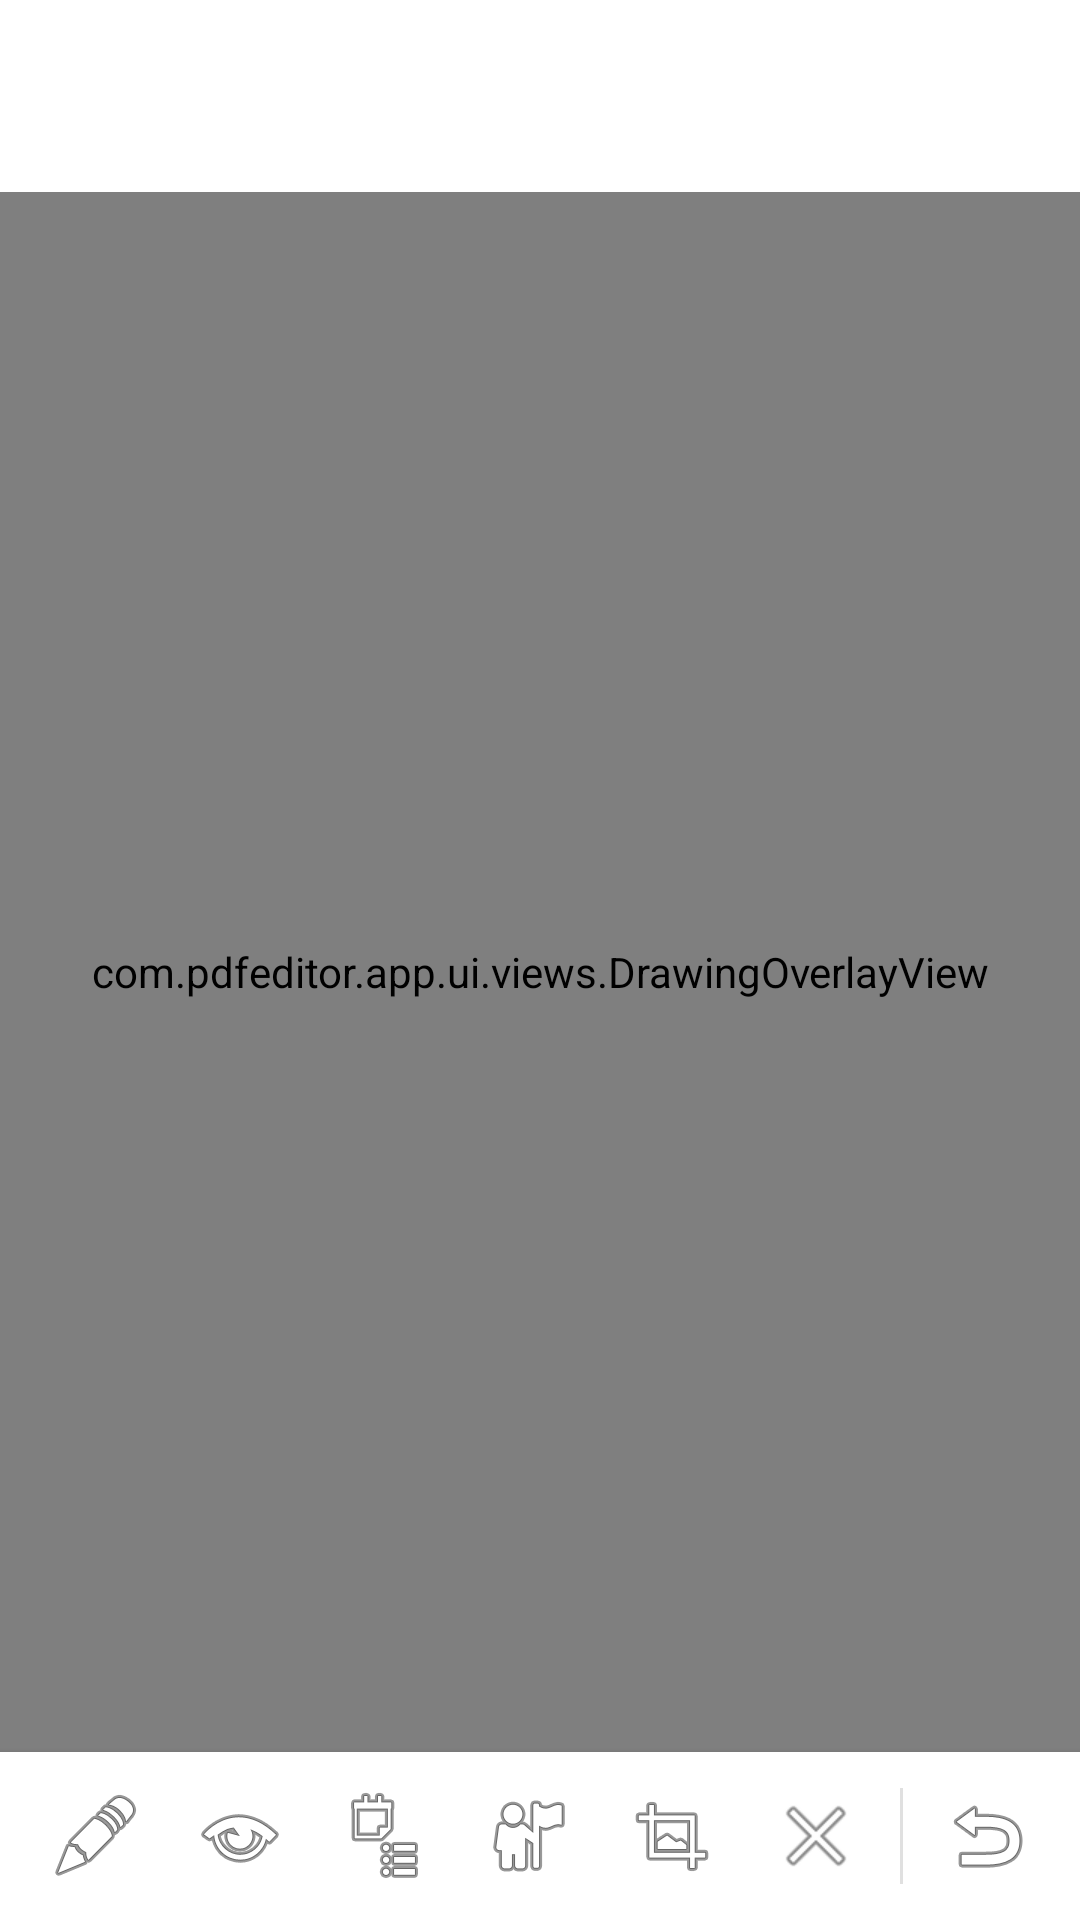

Point at icon controls on the screen. Image size 1080 x 1920, points as point (x, y).
agenda: point (384, 1835)
Pen: point (95, 1835)
Undo: point (988, 1836)
